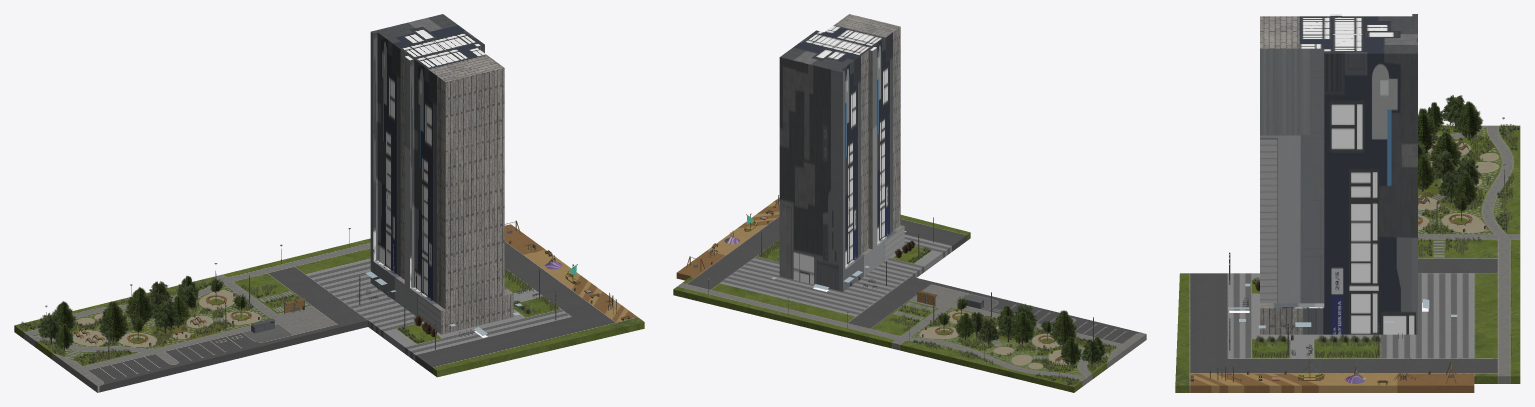
The model's file is 02_LetchikaBabushkina_Vl_29_K_5_01_v2.glb.
3 renders of one model, left to right at view 1: azimuth 30°, elevation 25°; view 2: azimuth 150°, elevation 25°; view 3: azimuth 270°, elevation 25°, orthographic. The views are drawn at different scales.
Parts seen in each view (by area): view 1: building, SM_LetchikaBabushkina_Vl_29_K_5_Ground, SM_LetchikaBabushkina_Vl_29_K_5_Flora, SM_LetchikaBabushkina_Vl_29_K_5_GroundEl; view 2: building, SM_LetchikaBabushkina_Vl_29_K_5_Ground, SM_LetchikaBabushkina_Vl_29_K_5_Flora, SM_LetchikaBabushkina_Vl_29_K_5_GroundEl; view 3: building, SM_LetchikaBabushkina_Vl_29_K_5_Ground, SM_LetchikaBabushkina_Vl_29_K_5_Flora, SM_LetchikaBabushkina_Vl_29_K_5_GroundEl, SM_LetchikaBabushkina_Vl_29_K_5_001_MainGlass001.
Boxes of the visible parts, <box> form: building: <box>370,14,513,334</box>; SM_LetchikaBabushkina_Vl_29_K_5_Ground: <box>14,224,644,392</box>; SM_LetchikaBabushkina_Vl_29_K_5_Flora: <box>20,267,557,365</box>; SM_LetchikaBabushkina_Vl_29_K_5_GroundEl: <box>45,220,630,358</box>; building: <box>779,14,904,291</box>; SM_LetchikaBabushkina_Vl_29_K_5_Ground: <box>673,197,1146,392</box>; SM_LetchikaBabushkina_Vl_29_K_5_Flora: <box>759,239,1116,384</box>; SM_LetchikaBabushkina_Vl_29_K_5_GroundEl: <box>686,195,1093,377</box>; building: <box>1260,14,1417,334</box>; SM_LetchikaBabushkina_Vl_29_K_5_Ground: <box>1175,125,1520,392</box>; SM_LetchikaBabushkina_Vl_29_K_5_Flora: <box>1252,95,1519,357</box>; SM_LetchikaBabushkina_Vl_29_K_5_GroundEl: <box>1190,117,1513,384</box>; SM_LetchikaBabushkina_Vl_29_K_5_001_MainGlass001: <box>1228,283,1457,328</box>.
Bounding box in the file's own units: 106 × 54.4 × 58.99.
Materials: 5 (4 with a texture image).
